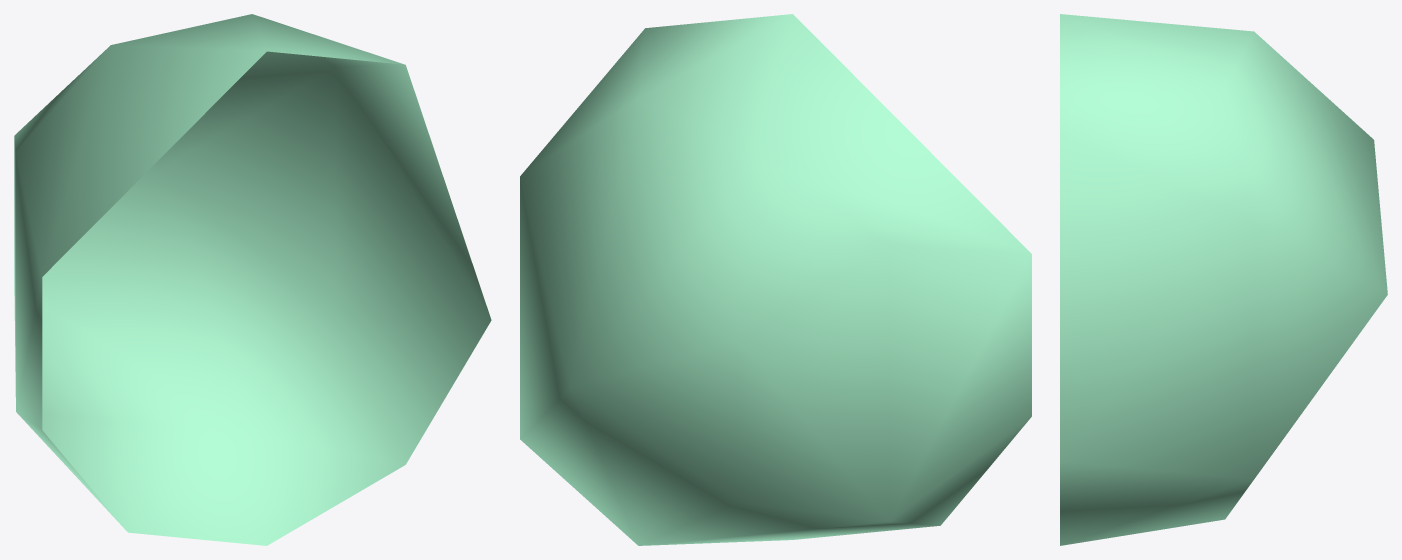
The picture shows the model from 3 angles, left to right: view 1: azimuth 30°, elevation 25°; view 2: azimuth 150°, elevation 25°; view 3: azimuth 270°, elevation 25°; orthographic projection. The views are drawn at different scales.
Parts seen in each view (by area): view 1: Object06; view 2: Object06; view 3: Object06.
Boxes of the visible parts, <box> form: Object06: <box>14,14,491,545</box>; Object06: <box>520,14,1031,545</box>; Object06: <box>1060,14,1387,545</box>.
Bounding box in the file's own units: 10150 × 10672 × 6207.
